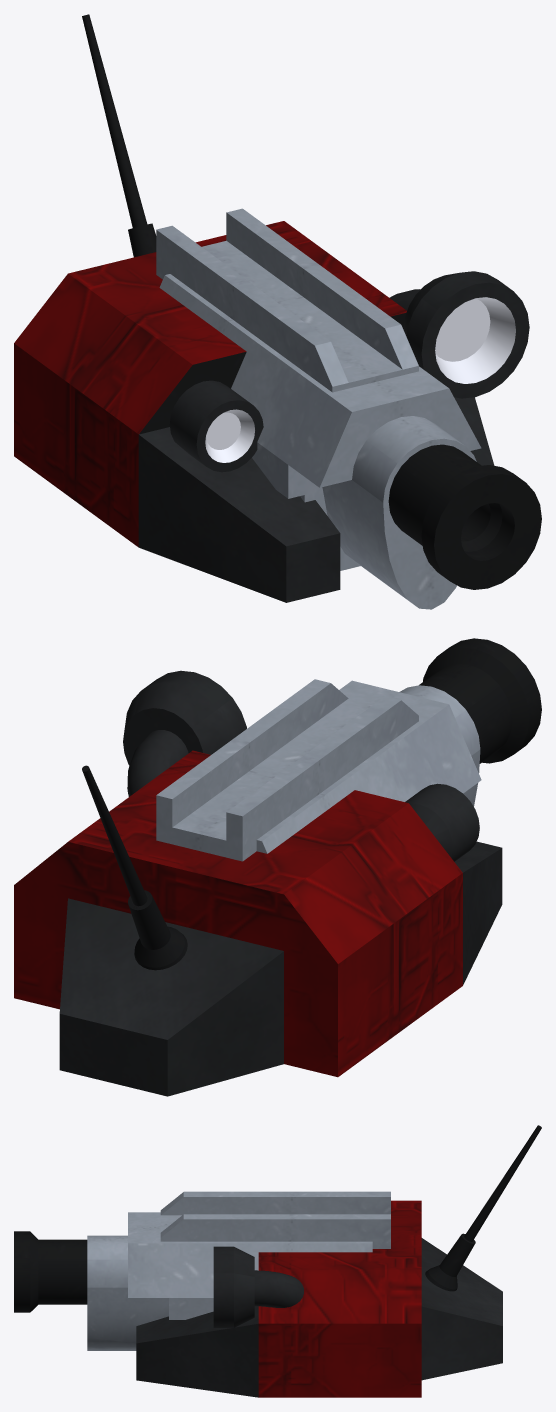
File: FabricatorTurret.fbx
The picture shows the model from 3 angles, top to bottom: view 1: azimuth 30°, elevation 25°; view 2: azimuth 150°, elevation 25°; view 3: azimuth 270°, elevation 25°; orthographic projection. The views are drawn at different scales.
Visible parts, largest first — view 1: mergedBlocks; view 2: mergedBlocks; view 3: mergedBlocks.
Boxes of the visible parts, x1,y1,x2,y2 form: mergedBlocks: (14, 14, 541, 609); mergedBlocks: (14, 638, 541, 1096); mergedBlocks: (14, 1125, 541, 1397).
Bounding box in the file's own units: 1.65 × 1.52 × 3.24.
